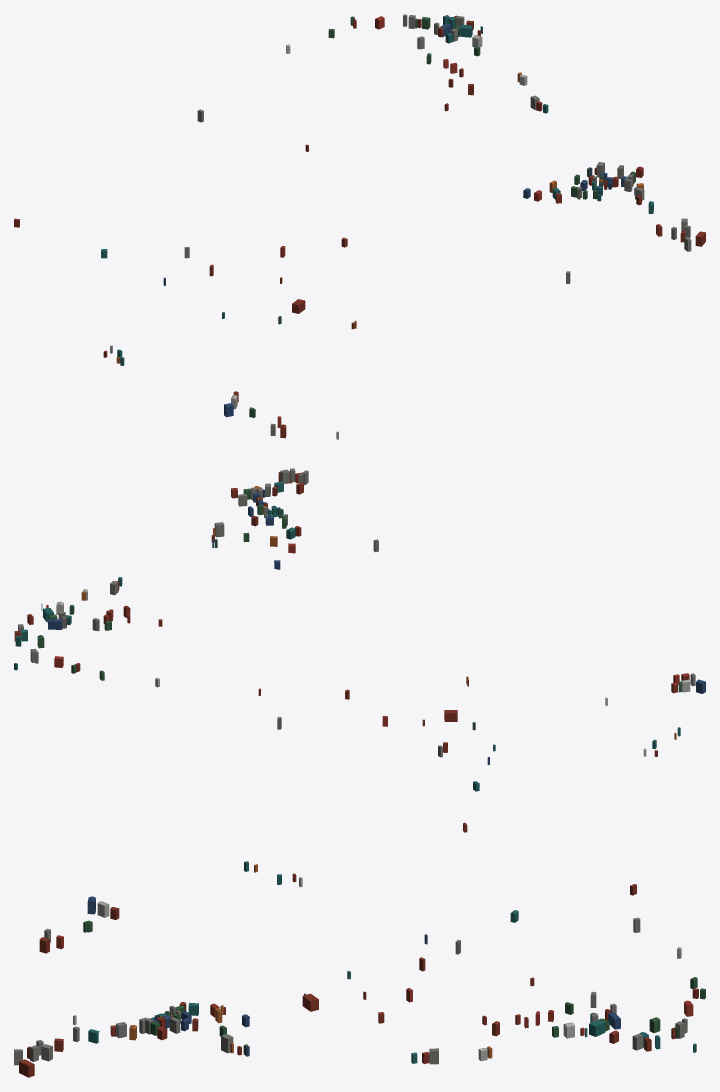
File: near-15-27350-14861.8581f2cf.glb
The picture shows the model from 3 angles, top to bottom: view 1: azimuth 30°, elevation 25°; view 2: azimuth 150°, elevation 25°; view 3: azimuth 270°, elevation 25°; orthographic projection. The views are drawn at different scales.
Size of the model in its own units: 1180 by 387 by 1160.
